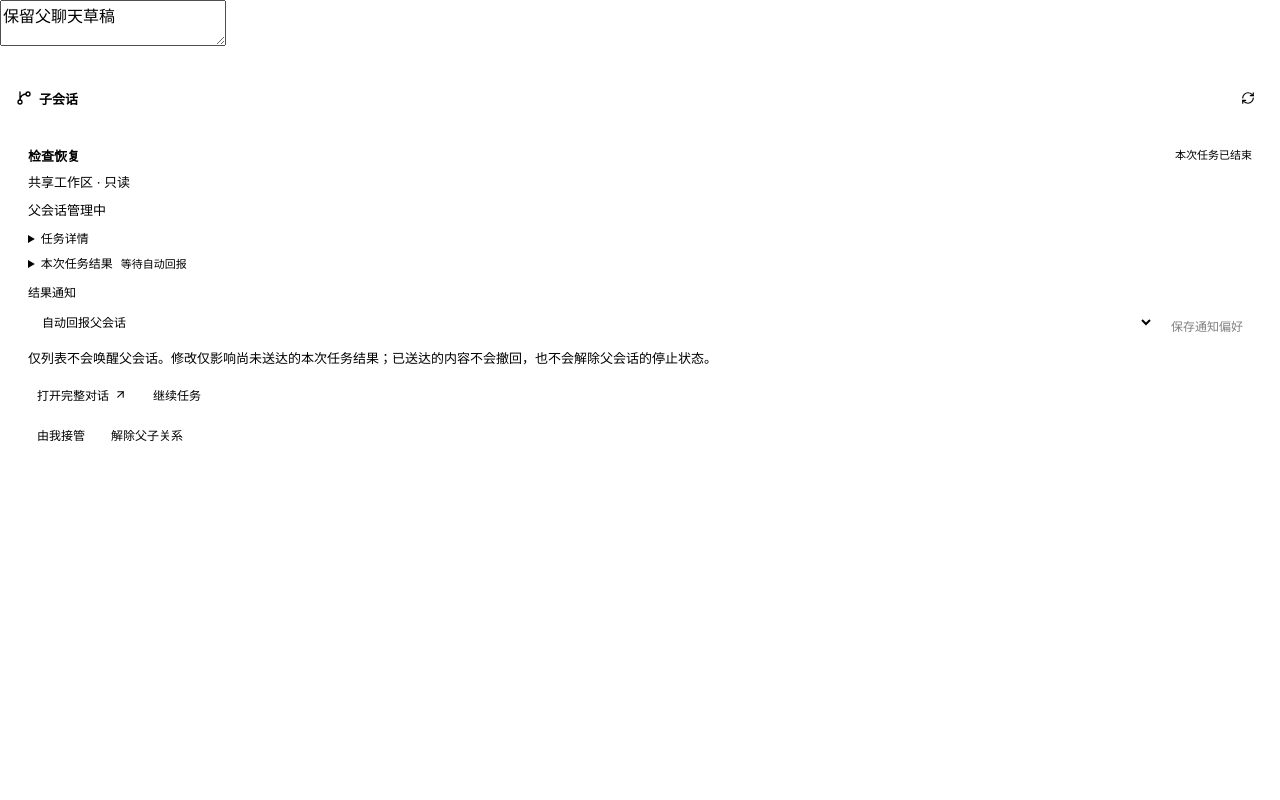
Test: does not let an older cached Link restore parent controls after a task projection changes
The width and height of the screenshot is (1280, 800).
Click the button "由我接管" at (61, 434), box left=28, top=420, right=94, bottom=448
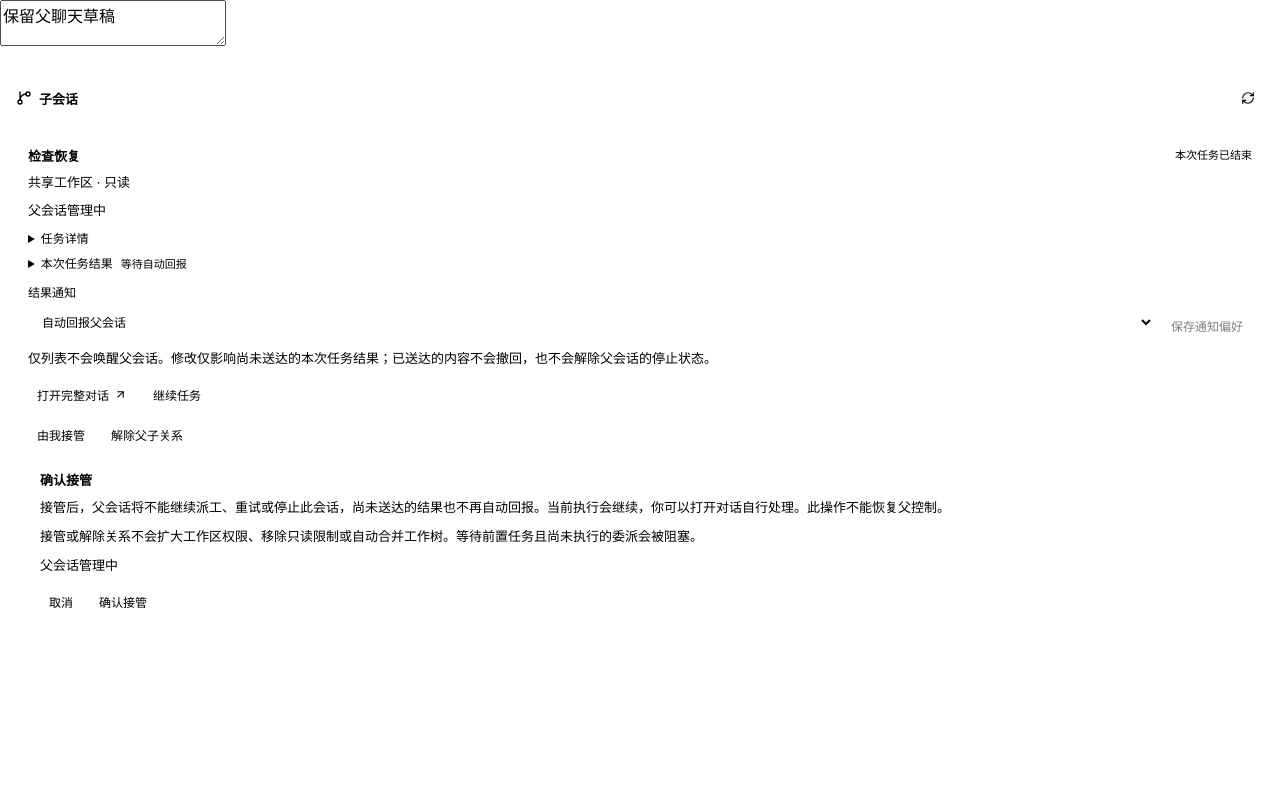
expect the button "确认接管" is enabled: met, box left=90, top=588, right=156, bottom=616
Click the button "取消" at (61, 602), box left=40, top=588, right=82, bottom=616
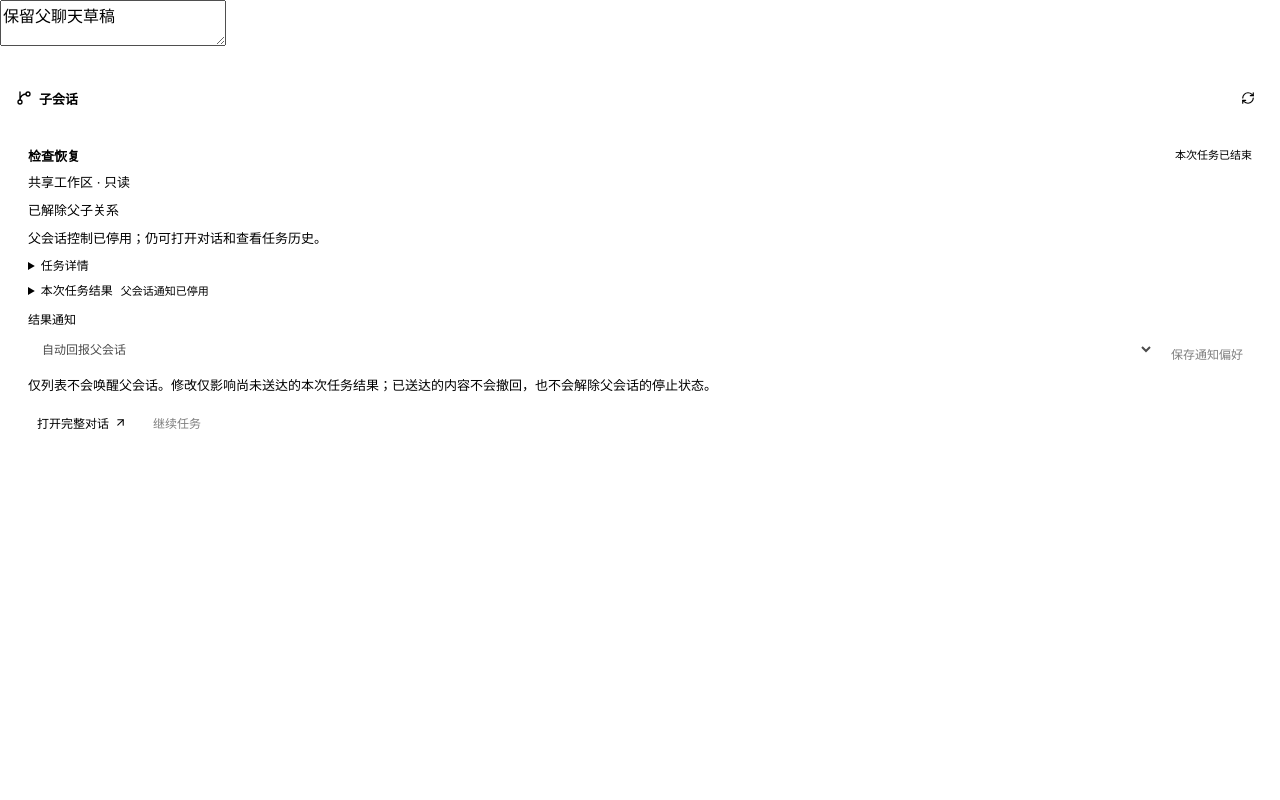
expect the text "已解除父子关系" is shown: met, box left=28, top=202, right=119, bottom=218
expect the button "由我接管" is gone: met
expect the button "继续任务" is disabled: met, box left=144, top=408, right=210, bottom=436
